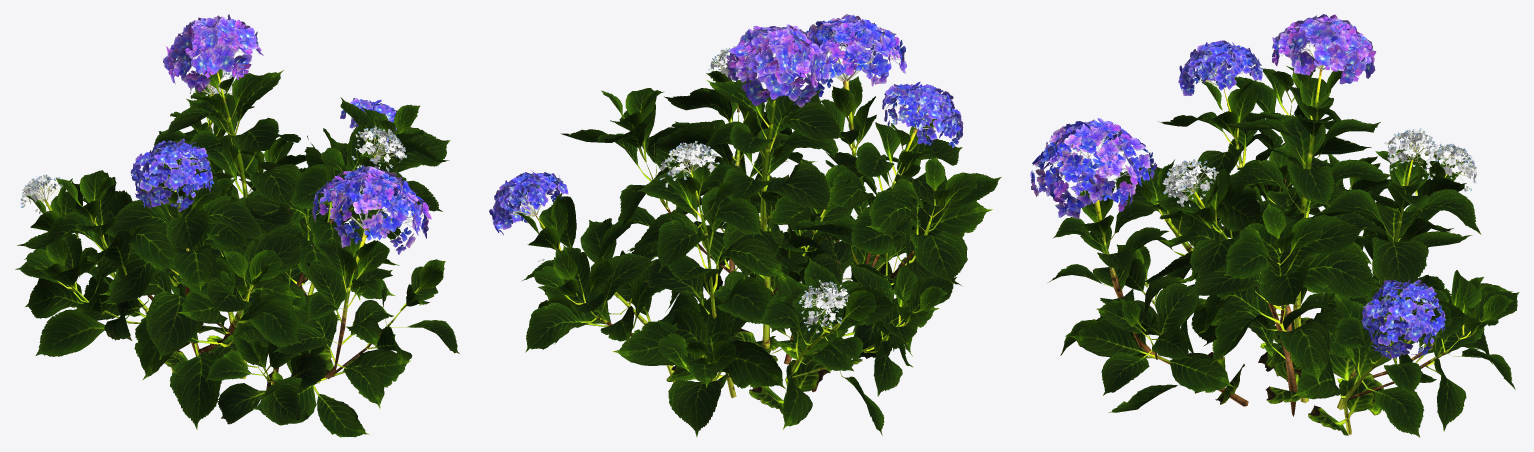
File: hydrangea.glb
3 renders of one model, left to right at view 1: azimuth 30°, elevation 25°; view 2: azimuth 150°, elevation 25°; view 3: azimuth 270°, elevation 25°, orthographic. The views are drawn at different scales.
Bounding box in the file's own units: 1.28 × 1.05 × 1.25.
1 material, 1 textured.
